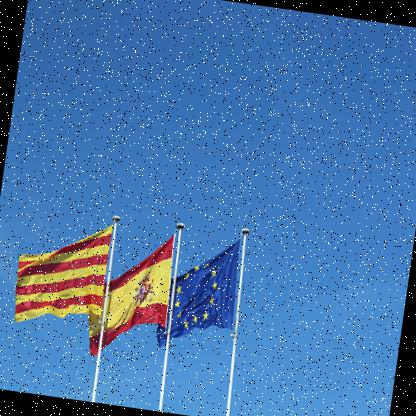es: (106, 221, 181, 341)
